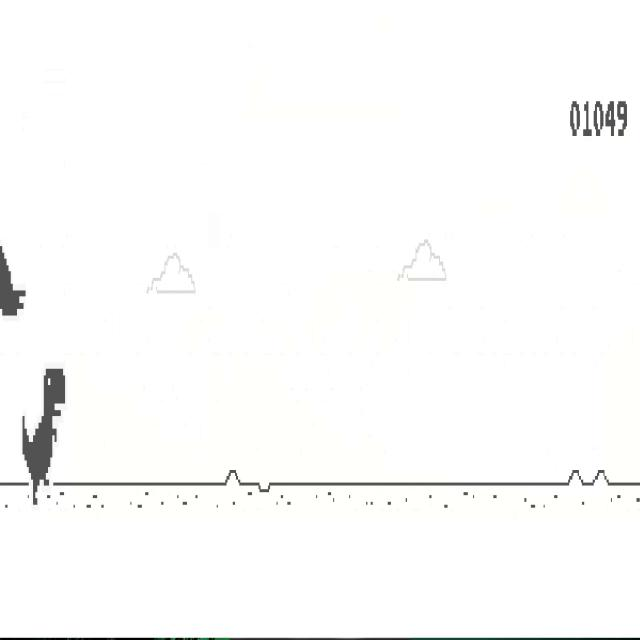dino: (20, 362, 68, 509)
ptero: (0, 243, 29, 321)
